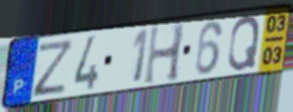1: (130, 27, 150, 87)
4: (72, 33, 102, 93)
6: (193, 19, 225, 78)
H: (142, 22, 188, 88)
Q: (226, 14, 262, 73)
Z: (31, 37, 76, 99)
